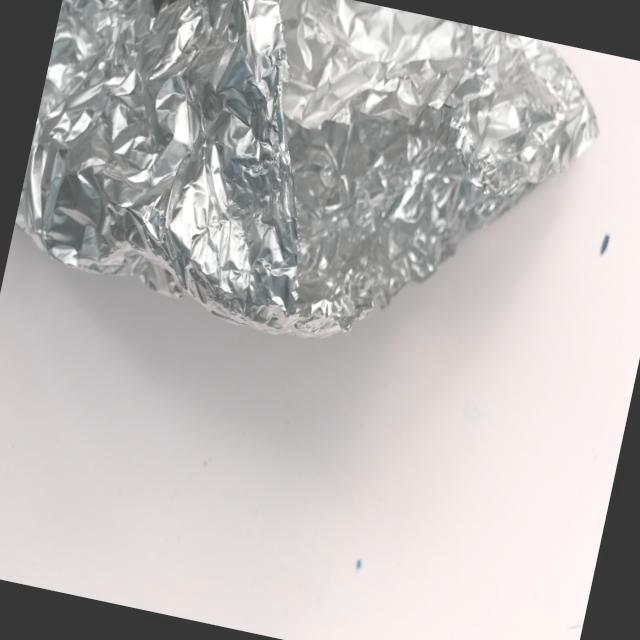metal: (0, 0, 629, 429)
